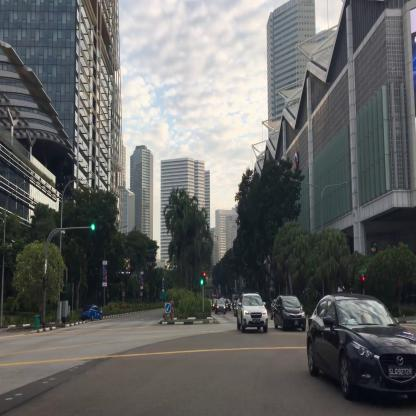green_traffic_light: (91, 224, 102, 230), (200, 273, 203, 284)
